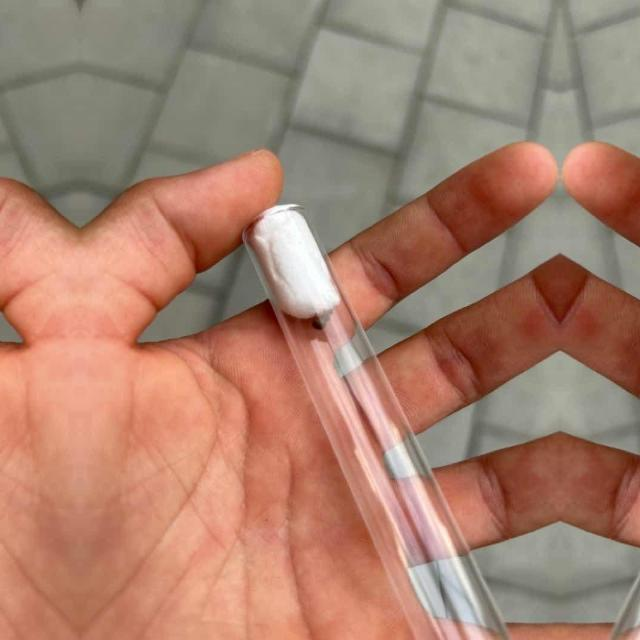Lasius: (309, 302, 335, 332)
